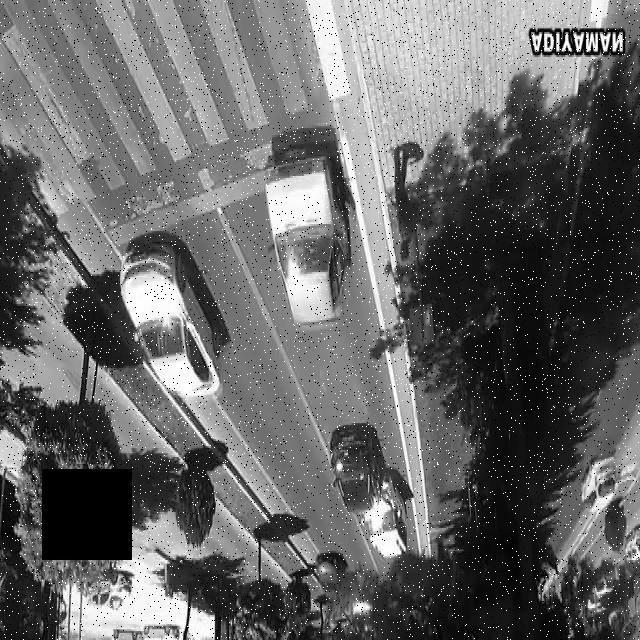vehicle: (302, 424, 442, 569)
